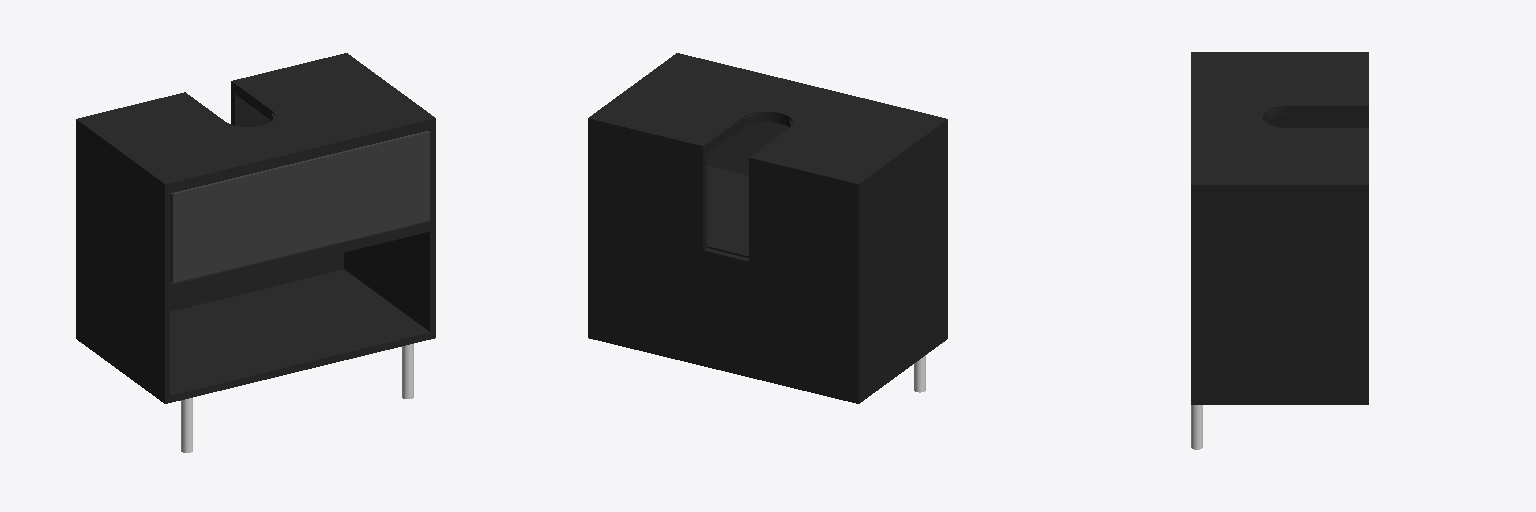
File: Waschtischunterbau.obj
3 renders of one model, left to right at view 1: azimuth 30°, elevation 25°; view 2: azimuth 150°, elevation 25°; view 3: azimuth 270°, elevation 25°, orthographic.
Parts seen in each view (by area): view 1: Mesh1 Component_755 G_19_Waschtischunterbau_dwg1 Model, Mesh4 Component_756 G_19_Waschtischunterbau_dwg1 Model, Mesh8 Component_758 G_19_Waschtischunterbau_dwg1 Model, Mesh6 Component_757 G_19_Waschtischunterbau_dwg1 Model; view 2: Mesh1 Component_755 G_19_Waschtischunterbau_dwg1 Model, Mesh4 Component_756 G_19_Waschtischunterbau_dwg1 Model; view 3: Mesh1 Component_755 G_19_Waschtischunterbau_dwg1 Model, Mesh8 Component_758 G_19_Waschtischunterbau_dwg1 Model.
Boxes of the visible parts, box(x1,y1,x2,y2) form: Mesh1 Component_755 G_19_Waschtischunterbau_dwg1 Model: box(76, 53, 435, 403); Mesh4 Component_756 G_19_Waschtischunterbau_dwg1 Model: box(170, 131, 429, 282); Mesh8 Component_758 G_19_Waschtischunterbau_dwg1 Model: box(402, 344, 413, 398); Mesh6 Component_757 G_19_Waschtischunterbau_dwg1 Model: box(181, 398, 192, 452); Mesh1 Component_755 G_19_Waschtischunterbau_dwg1 Model: box(588, 53, 947, 403); Mesh4 Component_756 G_19_Waschtischunterbau_dwg1 Model: box(707, 122, 788, 175); Mesh1 Component_755 G_19_Waschtischunterbau_dwg1 Model: box(1191, 52, 1368, 404); Mesh8 Component_758 G_19_Waschtischunterbau_dwg1 Model: box(1191, 405, 1202, 449).
Bounding box in the file's own units: 77.4 × 75 × 44.23.